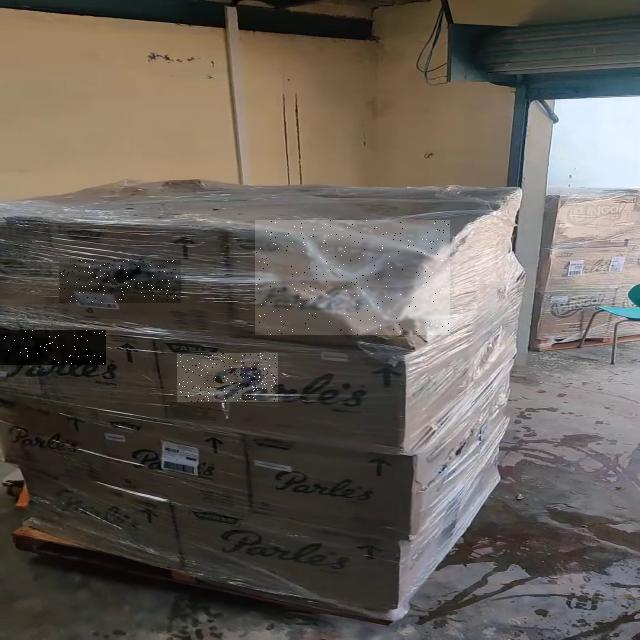squeeze: (255, 220, 450, 335)
tear: (59, 260, 180, 303), (177, 353, 277, 402), (0, 330, 106, 365)
